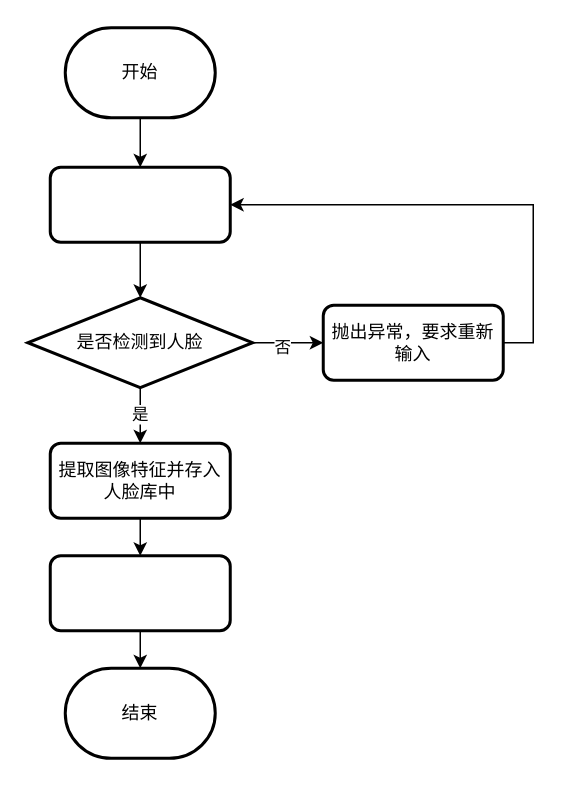
Some shapes in this 572 by 785 pixel diagram are drawn without their labels. Each missing label, with the box of its shape:
保存人脸图像: (48, 554, 231, 632)
输入待添加的人脸图像: (48, 165, 231, 243)
